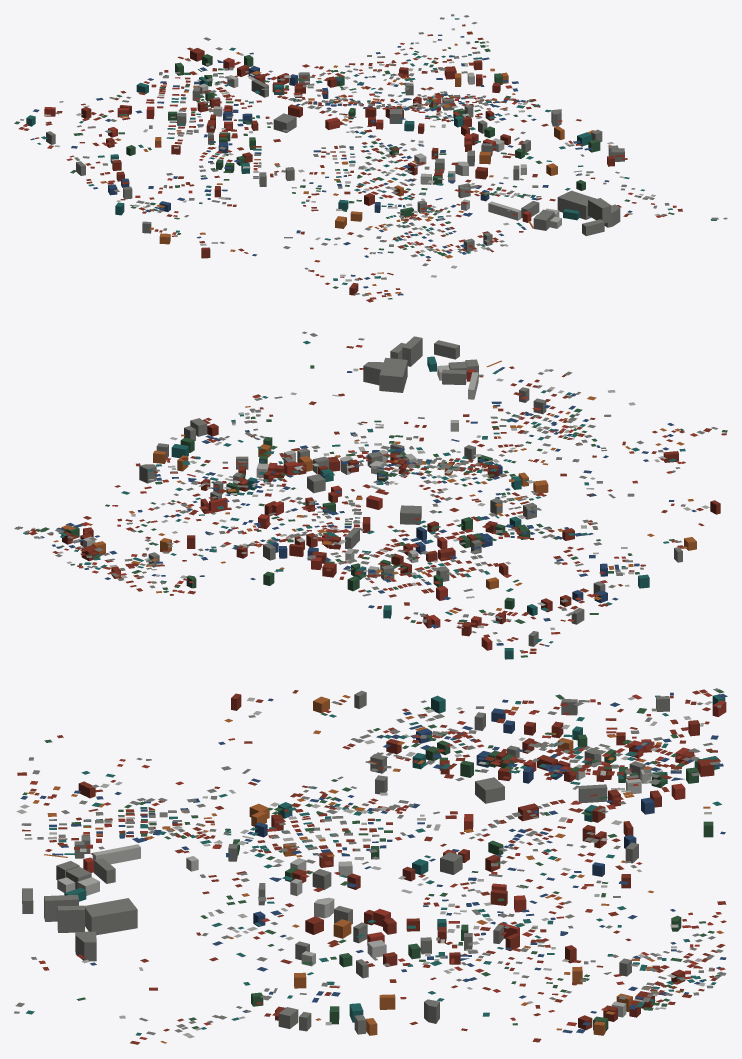
The model's file is far-15-27360-14871.67de627c.glb.
The picture shows the model from 3 angles, top to bottom: view 1: azimuth 30°, elevation 25°; view 2: azimuth 150°, elevation 25°; view 3: azimuth 270°, elevation 25°; orthographic projection. The views are drawn at different scales.
Bounding box in the file's own units: 1188 × 197 × 1177.
